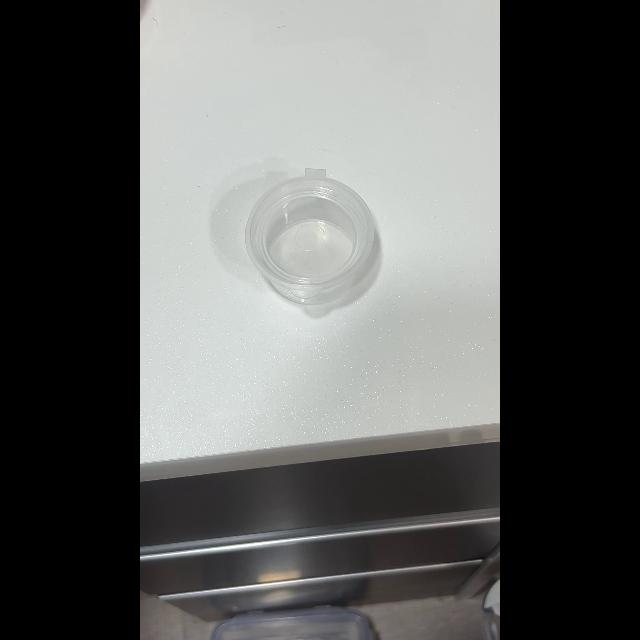clean: (242, 172, 378, 296)
